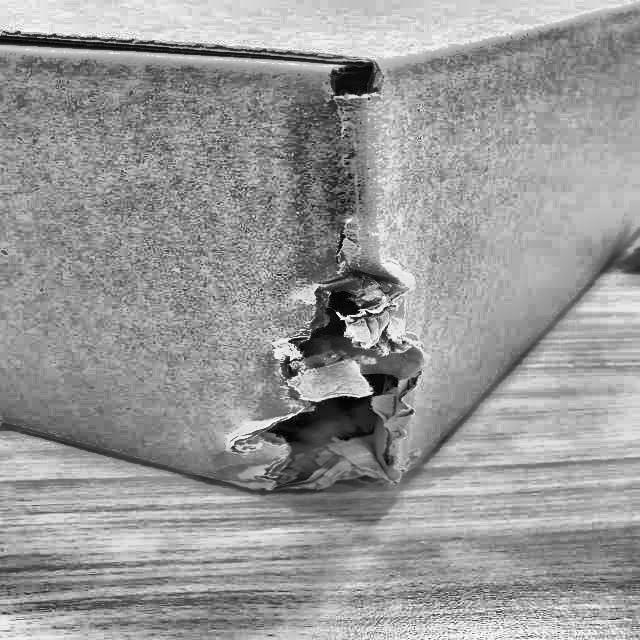box: (0, 0, 639, 512)
hole: (230, 276, 427, 476), (311, 42, 394, 108)
